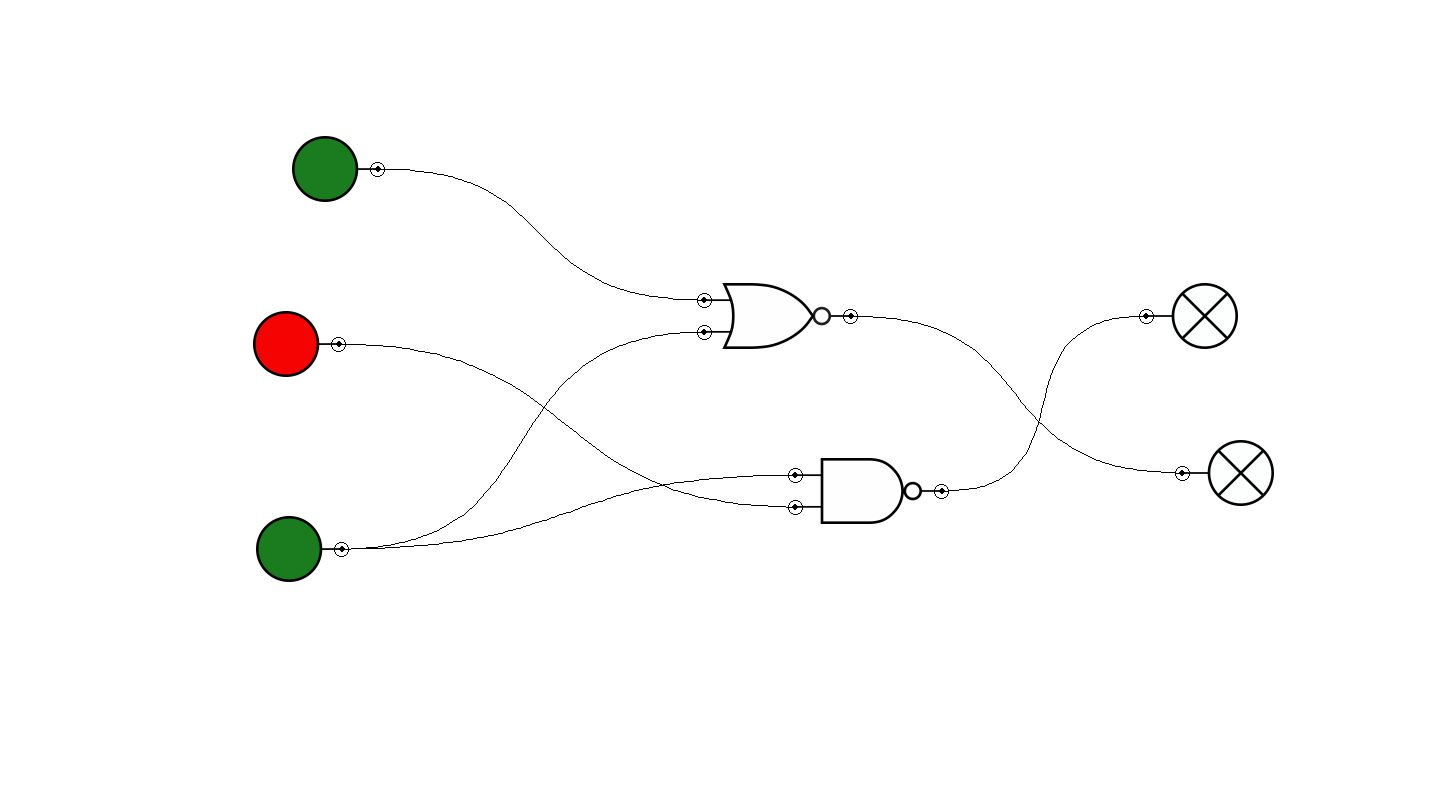bulb: (1139, 283, 1238, 349), (1175, 440, 1274, 506)
nand: (788, 458, 949, 524)
nor: (697, 283, 858, 349)
switch_False: (253, 311, 346, 377)
switch_True: (292, 136, 385, 202), (256, 516, 349, 582)
